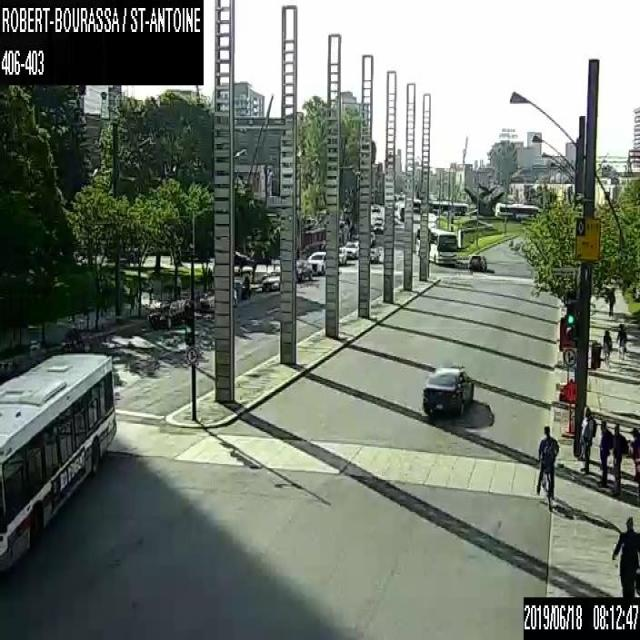bus: (0, 349, 116, 573), (414, 225, 458, 264), (494, 198, 538, 218), (412, 199, 468, 213)
construction: (559, 379, 574, 438)
cyclist: (240, 270, 251, 298), (295, 243, 300, 260)
pedestrian: (596, 420, 639, 495), (610, 515, 639, 596), (536, 424, 558, 508), (579, 403, 596, 476), (616, 324, 626, 359), (602, 329, 611, 363), (608, 289, 616, 316), (206, 266, 212, 290), (147, 276, 153, 299), (175, 273, 181, 296), (636, 550, 639, 562)
vehicle: (421, 364, 473, 416), (148, 296, 189, 329), (200, 286, 237, 308), (307, 250, 326, 274), (260, 270, 279, 290), (295, 259, 312, 281), (467, 254, 486, 269), (346, 240, 358, 257), (370, 246, 380, 262), (338, 245, 346, 265), (372, 219, 382, 233), (397, 206, 404, 220), (370, 230, 376, 243), (371, 205, 379, 212), (374, 215, 382, 221)
